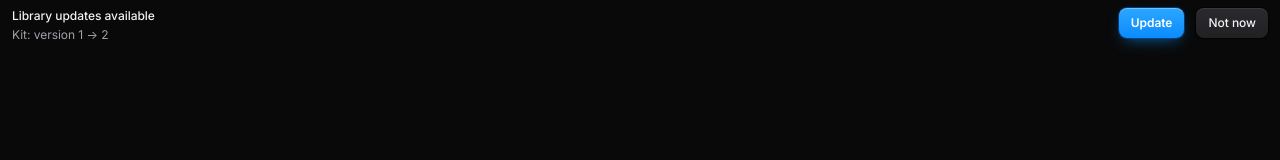
the library updates notice in the editor › lists what changed, and “Not now” hides it until the next version
Expected: the message shows "Kit: version 1 → 2", 12,27 -> 109,42
What coordinates should you click on to do the following:
click the button "Not now"
I would click on:
 (1232, 23)
Its box is 1196,8 -> 1268,38.
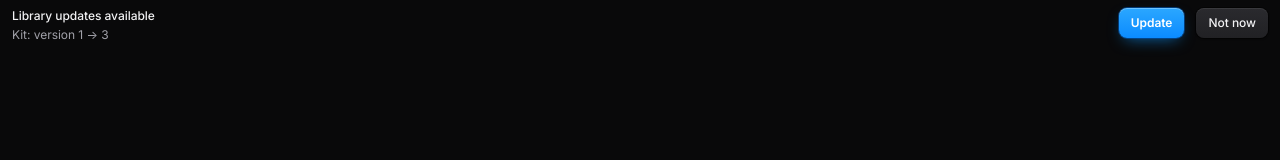
Now the element "Library updates available" shows "Kit: version 1 → 3", box 12,27 -> 109,42
